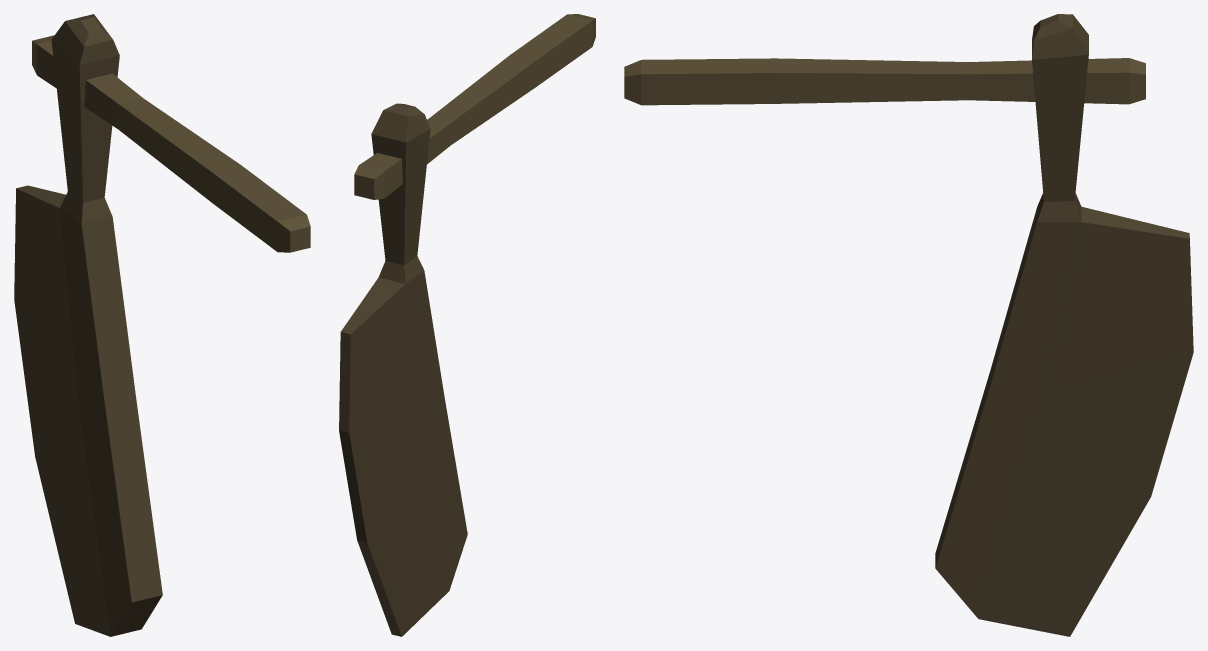
File: BoatLarge_1_Rudder.fbx
3 views of the same model, side by side, from view 1: azimuth 30°, elevation 25°; view 2: azimuth 150°, elevation 25°; view 3: azimuth 270°, elevation 25° (orthographic). The views are drawn at different scales.
Parts seen in each view (by area): view 1: BoatLarge_1_Rudder; view 2: BoatLarge_1_Rudder; view 3: BoatLarge_1_Rudder.
Boxes of the visible parts, bbox=[...] form: BoatLarge_1_Rudder: bbox=[14, 14, 310, 636]; BoatLarge_1_Rudder: bbox=[339, 14, 595, 636]; BoatLarge_1_Rudder: bbox=[624, 14, 1193, 636].
Size of the model in its own units: 10.16 by 147 by 123.
